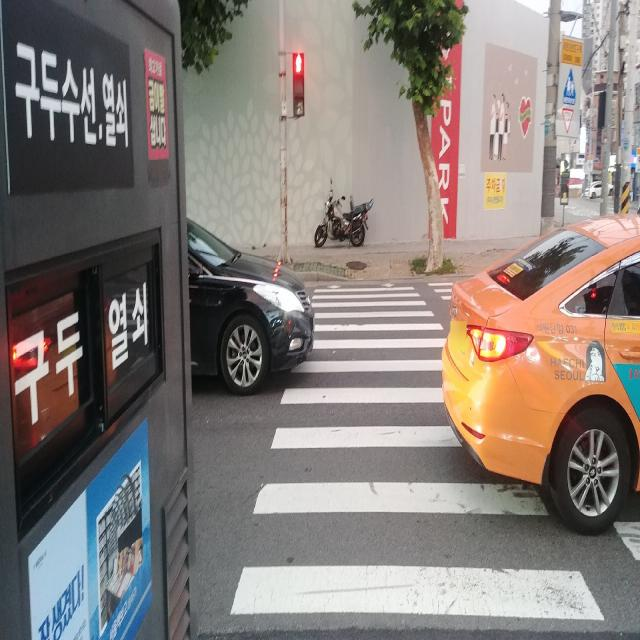빨간불: (293, 48, 306, 120)
횡단보도: (226, 280, 640, 625)
